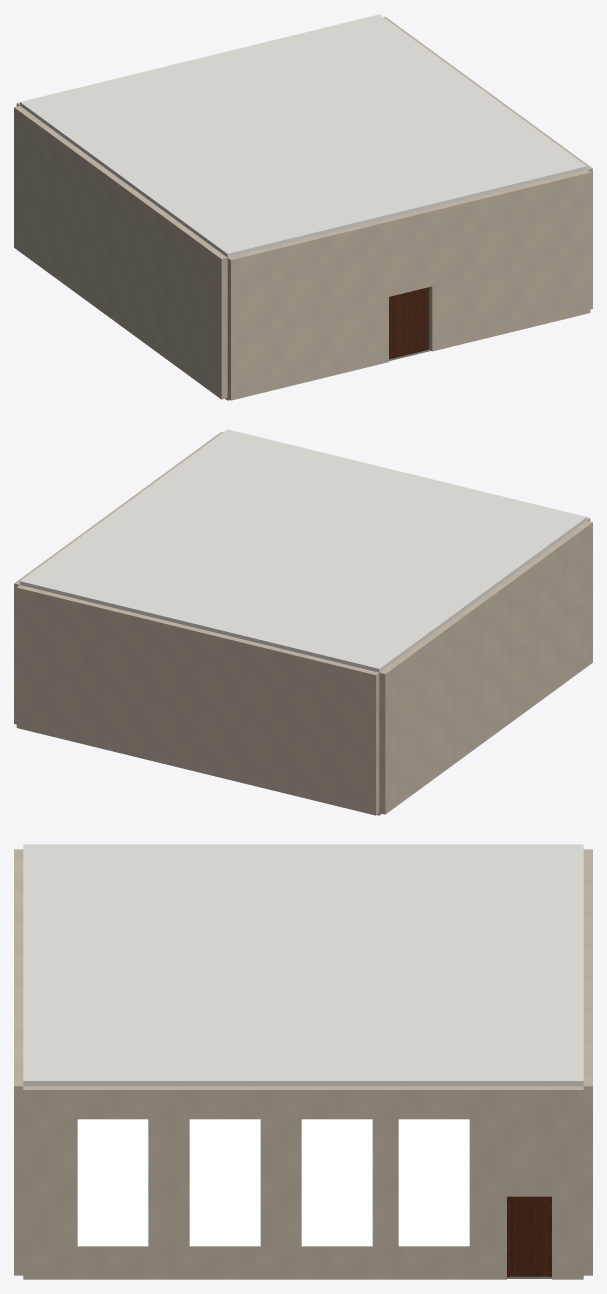
Rendered from courtroom_lod1.glb.
3 renders of one model, top to bottom at view 1: azimuth 30°, elevation 25°; view 2: azimuth 150°, elevation 25°; view 3: azimuth 270°, elevation 25°, orthographic. The views are drawn at different scales.
Visible parts, largest first — view 1: ENV_Wall_Plaster, ENV_Ceiling_Paint, INTERACT_MainDoor_Leaf0, INTERACT_MainDoor_Leaf1; view 2: ENV_Wall_Plaster, ENV_Ceiling_Paint; view 3: ENV_Ceiling_Paint, ENV_Wall_Plaster, ENV_Exterior_Daylight, INTERACT_SecurityDoor_Leaf0, ENV_Wood_Walnut.
Part boxes in pixels (x1,y1,x2,y2): ENV_Wall_Plaster: (14, 16, 592, 400); ENV_Ceiling_Paint: (20, 14, 586, 257); INTERACT_MainDoor_Leaf0: (408, 287, 429, 354); INTERACT_MainDoor_Leaf1: (389, 292, 407, 359); ENV_Wall_Plaster: (14, 431, 592, 815); ENV_Ceiling_Paint: (20, 429, 586, 672); ENV_Ceiling_Paint: (23, 844, 583, 1086); ENV_Wall_Plaster: (14, 849, 592, 1279); ENV_Exterior_Daylight: (77, 1119, 469, 1246); INTERACT_SecurityDoor_Leaf0: (511, 1196, 547, 1276); ENV_Wood_Walnut: (507, 1196, 551, 1276).
Bounding box in the file's own units: 15.85 × 5.85 × 15.5.
Materials: 23 (10 with a texture image).
